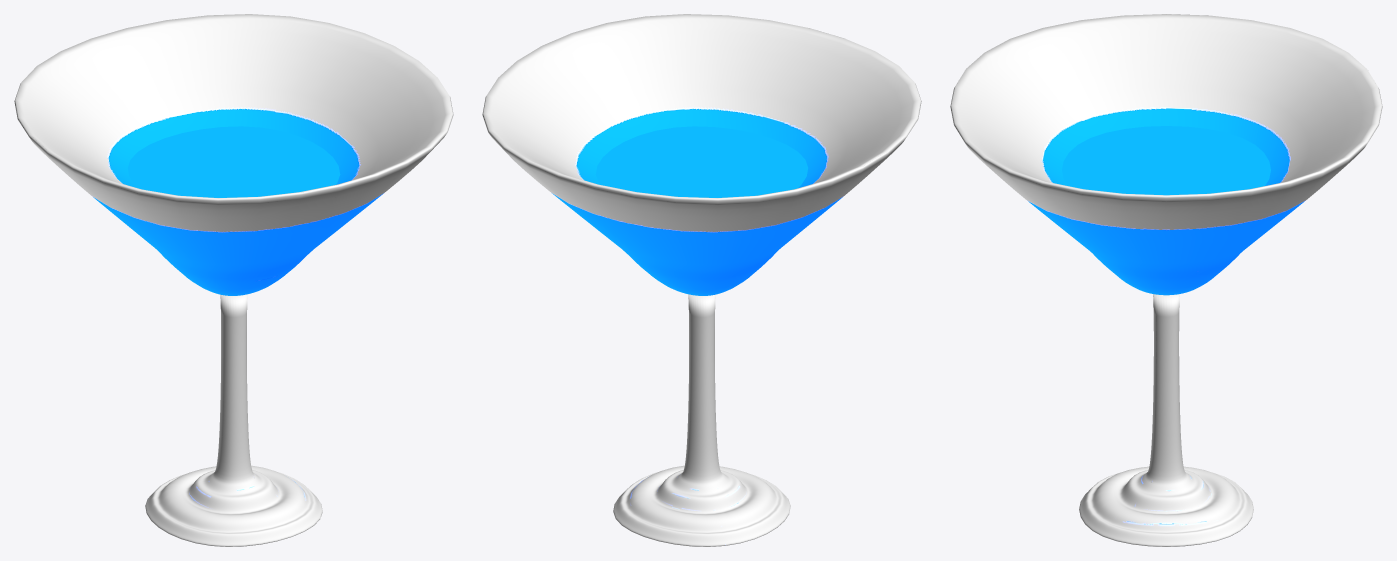
File: drink1.fbx
3 views of the same model, side by side, from view 1: azimuth 30°, elevation 25°; view 2: azimuth 150°, elevation 25°; view 3: azimuth 270°, elevation 25° (orthographic).
Parts seen in each view (by area): view 1: drink1_Baked; view 2: drink1_Baked; view 3: drink1_Baked.
Part boxes in pixels (x1,y1,x2,y2): drink1_Baked: (14,14,453,546); drink1_Baked: (482,14,921,546); drink1_Baked: (950,14,1382,546).
Size of the model in its own units: 695 by 724 by 695.
Materials: 1 (1 with a texture image).
